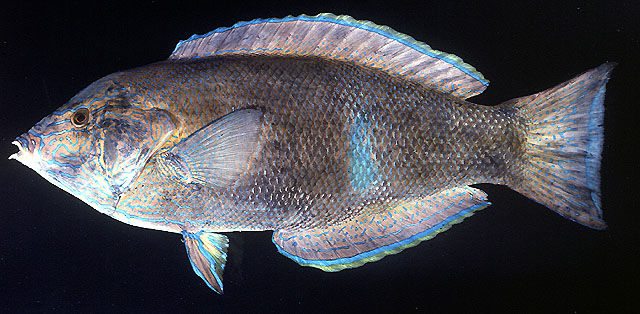fish: (10, 14, 611, 293)
